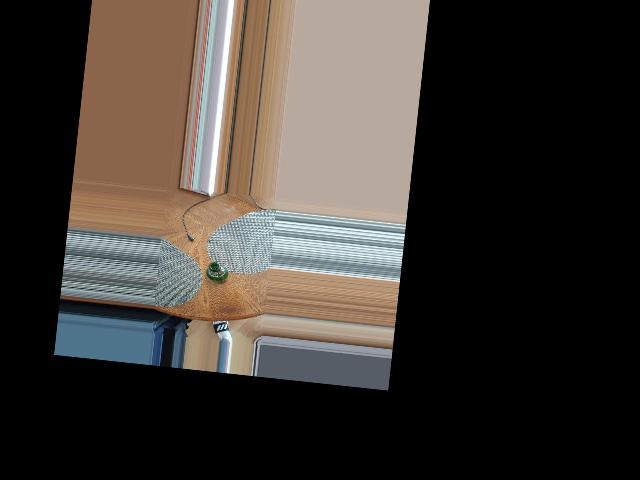beer: (205, 261, 229, 284)
